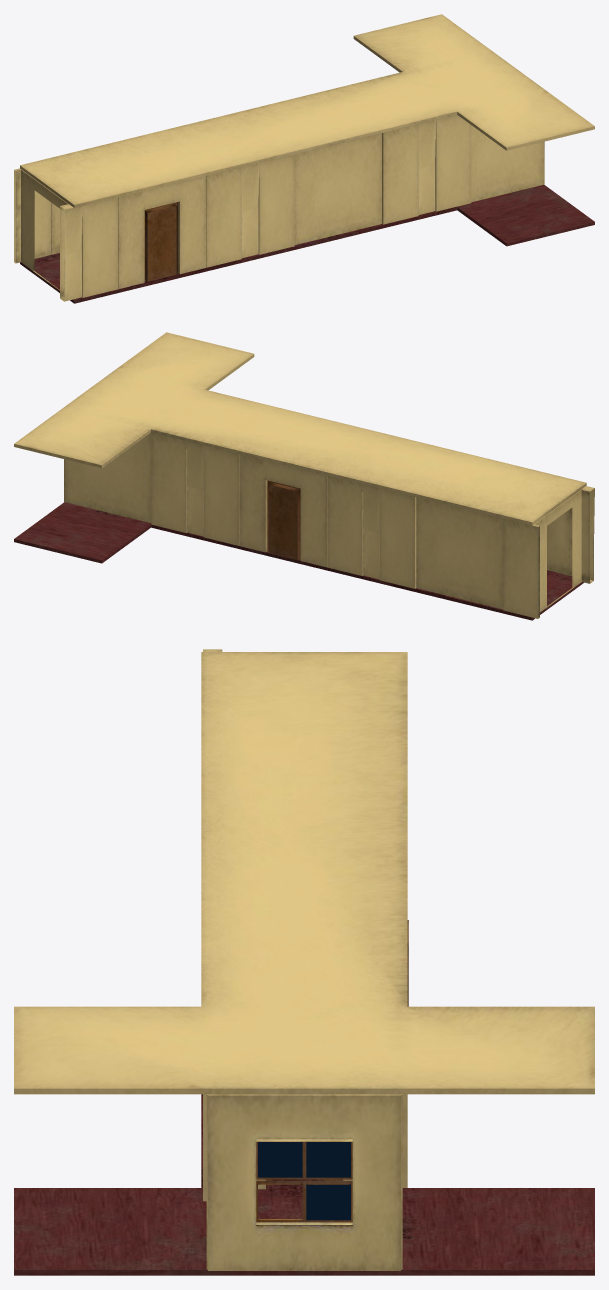
File: gallery.glb
3 views of the same model, one above another, from view 1: azimuth 30°, elevation 25°; view 2: azimuth 150°, elevation 25°; view 3: azimuth 270°, elevation 25° (orthographic). The views are drawn at different scales.
Bounding box in the file's own units: 13.57 × 2.65 × 7.45.
Materials: 2 (1 with a texture image).
